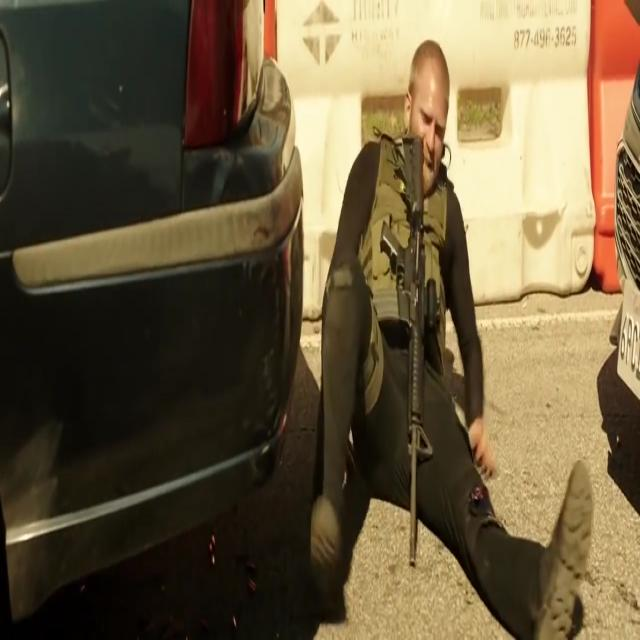Weapon: (386, 156, 441, 557)
